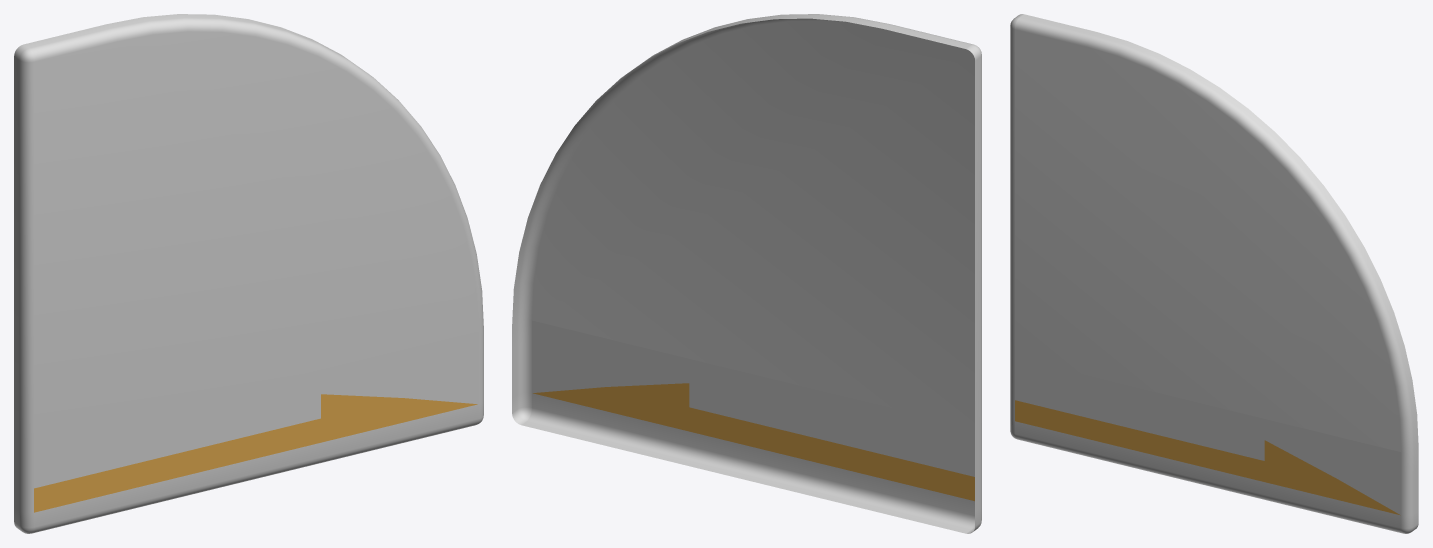
File: lab_set_round_panel_001.fbx
The picture shows the model from 3 angles, left to right: view 1: azimuth 30°, elevation 25°; view 2: azimuth 150°, elevation 25°; view 3: azimuth 330°, elevation 25°; orthographic projection. The views are drawn at different scales.
Parts seen in each view (by area): view 1: round_panel.001; view 2: round_panel.001; view 3: round_panel.001.
Boxes of the visible parts, box(x1,y1,x2,y2) form: round_panel.001: box(14, 14, 483, 533); round_panel.001: box(512, 14, 981, 533); round_panel.001: box(1010, 14, 1418, 533).
Size of the model in its own units: 50 by 50 by 2.
